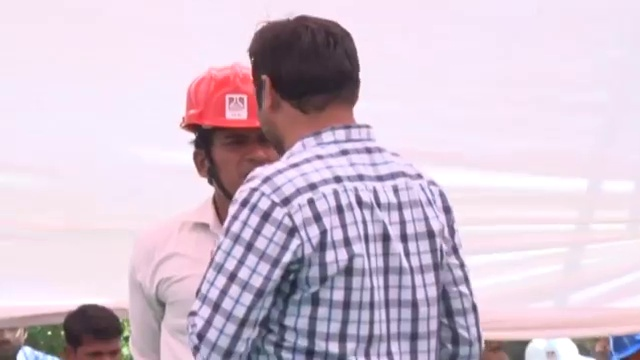helmet: (176, 59, 283, 138), (524, 335, 591, 359)
helmet_off: (249, 15, 360, 164), (59, 305, 124, 360), (0, 321, 35, 360)
helmet_on: (176, 60, 284, 223)
person: (189, 11, 484, 360), (124, 57, 283, 359)
